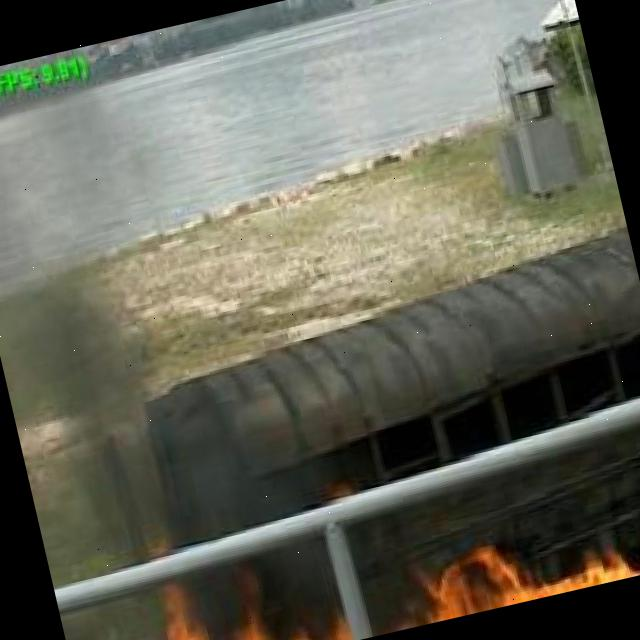fire: (420, 517, 636, 622), (156, 542, 349, 640), (65, 622, 160, 640)
